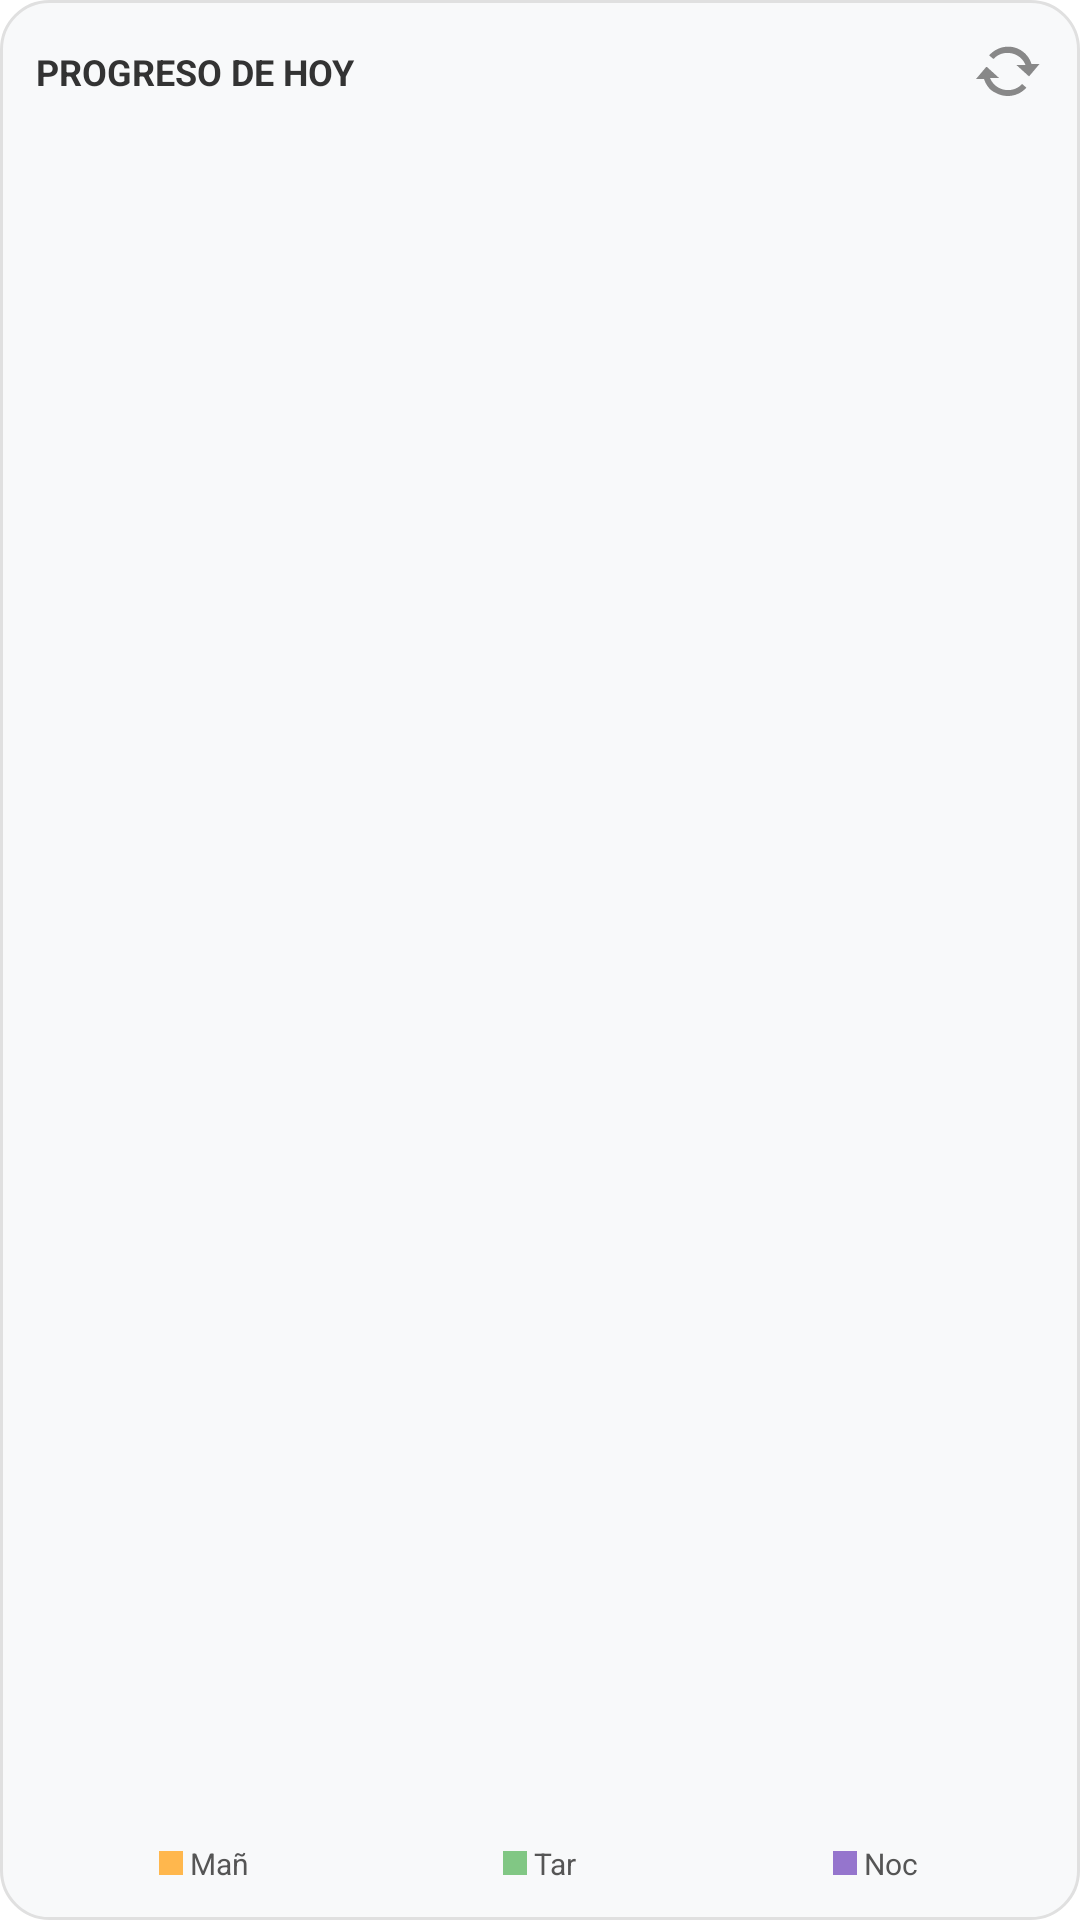

Locate icon controls on the screen. Image size 1080×1920, boxes as (x1, y1, x2, y2).
Actualizar: (976, 46, 1039, 96)
